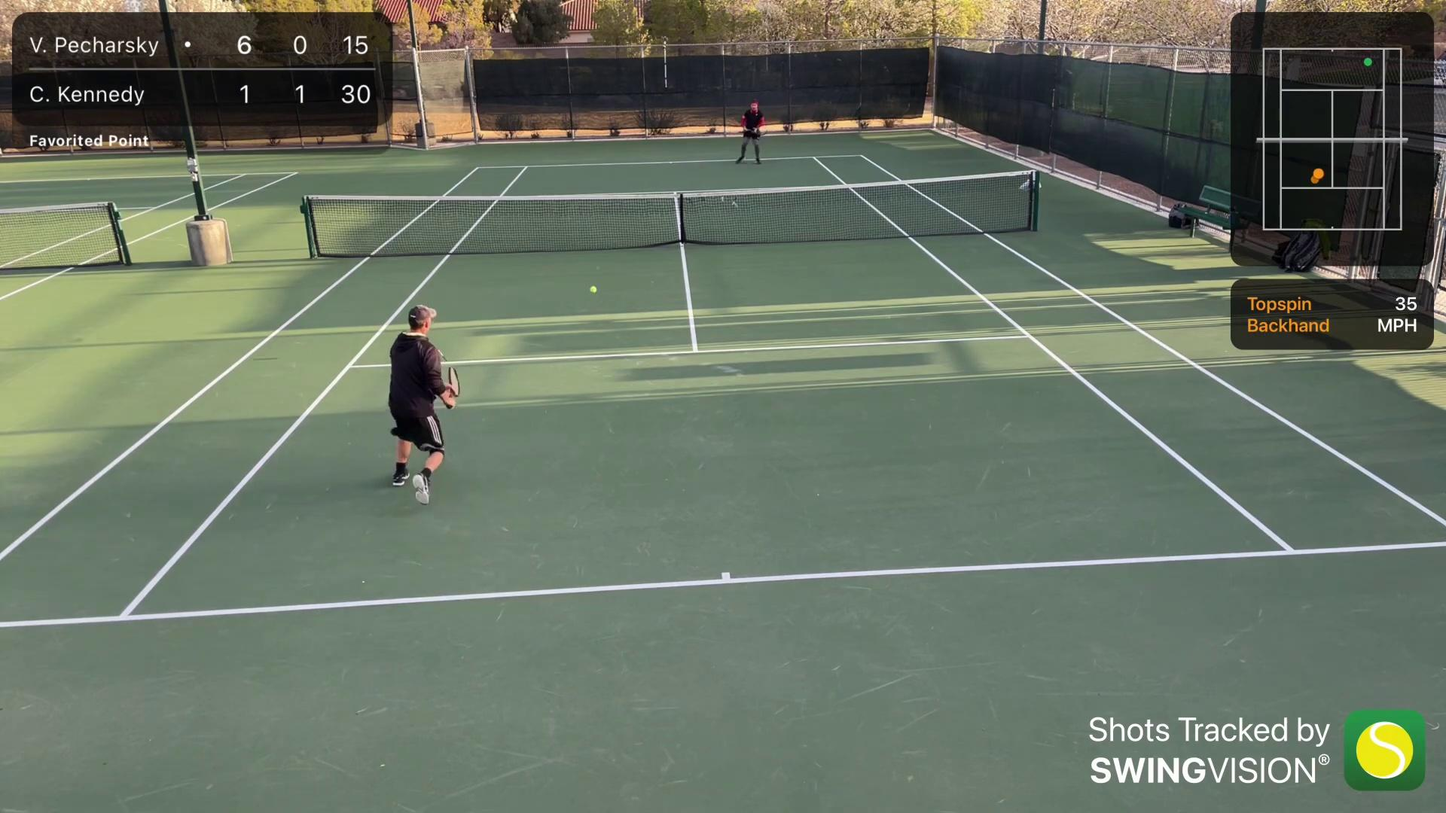ball: (588, 284, 599, 296)
